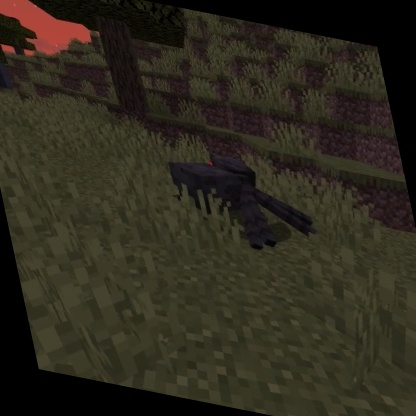spider: (160, 137, 325, 267)
